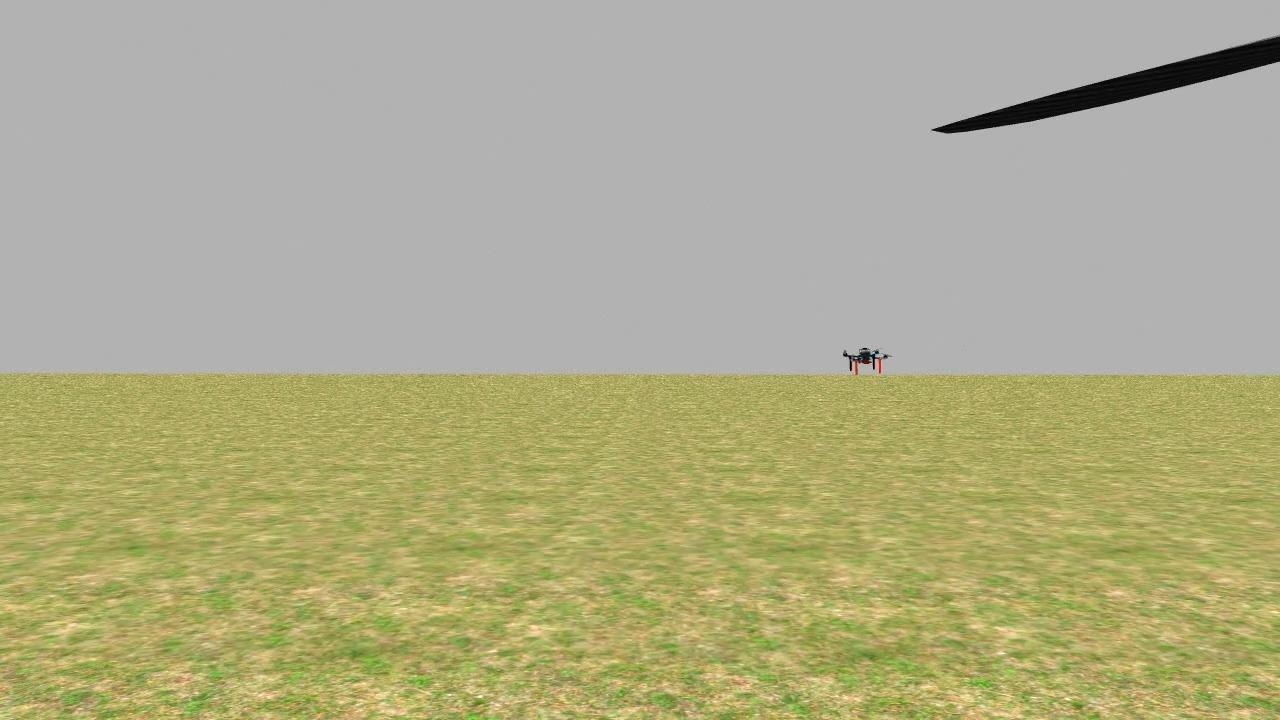UAV: (822, 330, 904, 383)
